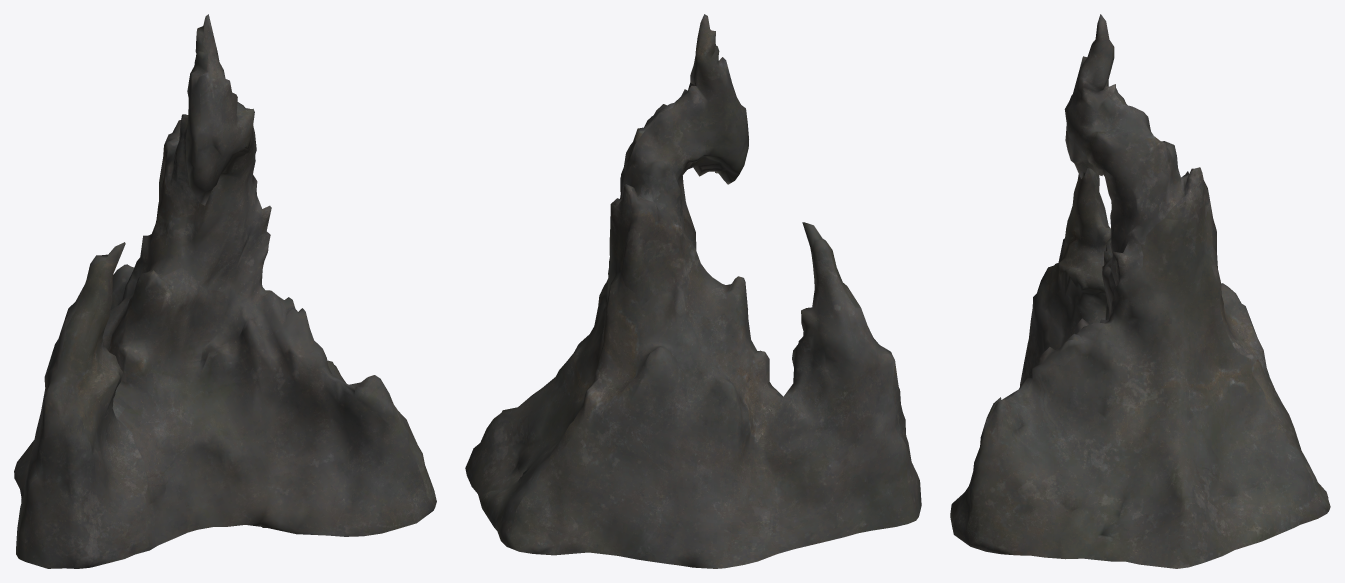
The model's file is Cliff_W3_CraterSpike01.fbx.
3 views of the same model, side by side, from view 1: azimuth 30°, elevation 25°; view 2: azimuth 150°, elevation 25°; view 3: azimuth 270°, elevation 25° (orthographic). The views are drawn at different scales.
Visible parts, largest first — view 1: SM_CraterSpike_01.mo; view 2: SM_CraterSpike_01.mo; view 3: SM_CraterSpike_01.mo.
Part boxes in pixels (x1,y1,x2,y2): SM_CraterSpike_01.mo: (14,14,436,568); SM_CraterSpike_01.mo: (465,14,921,568); SM_CraterSpike_01.mo: (950,14,1330,568).
Bounding box in the file's own units: 18955 × 21478 × 16089.
Materials: 1 (1 with a texture image).
